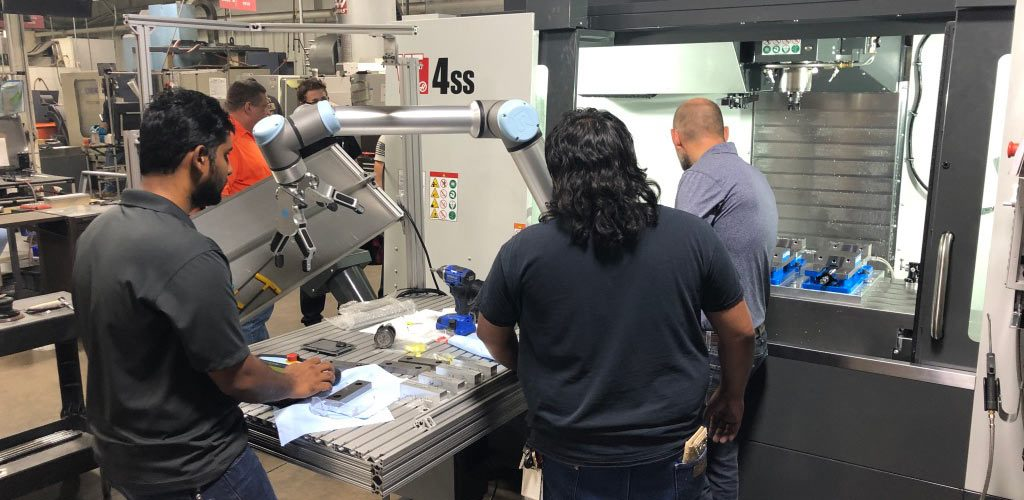person: (475, 109, 756, 500), (69, 89, 335, 499), (671, 97, 781, 500), (211, 78, 283, 202)
robot: (251, 98, 590, 276)
